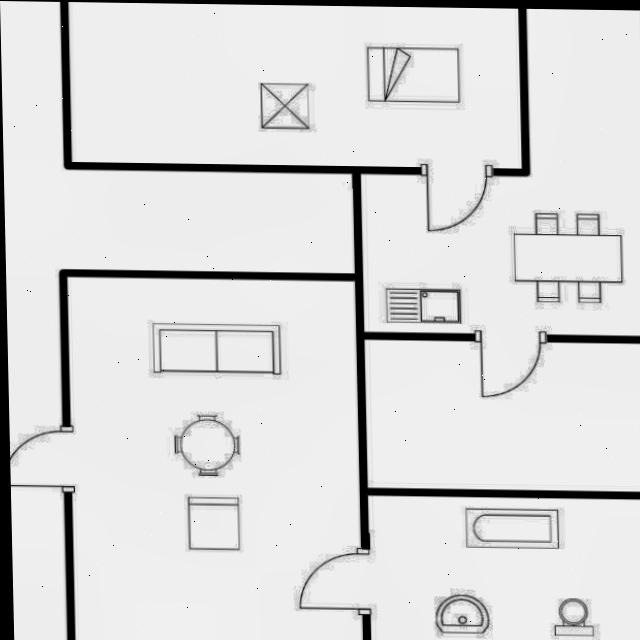room: (67, 270, 363, 640), (361, 8, 640, 335), (66, 1, 524, 168), (368, 495, 640, 640)
